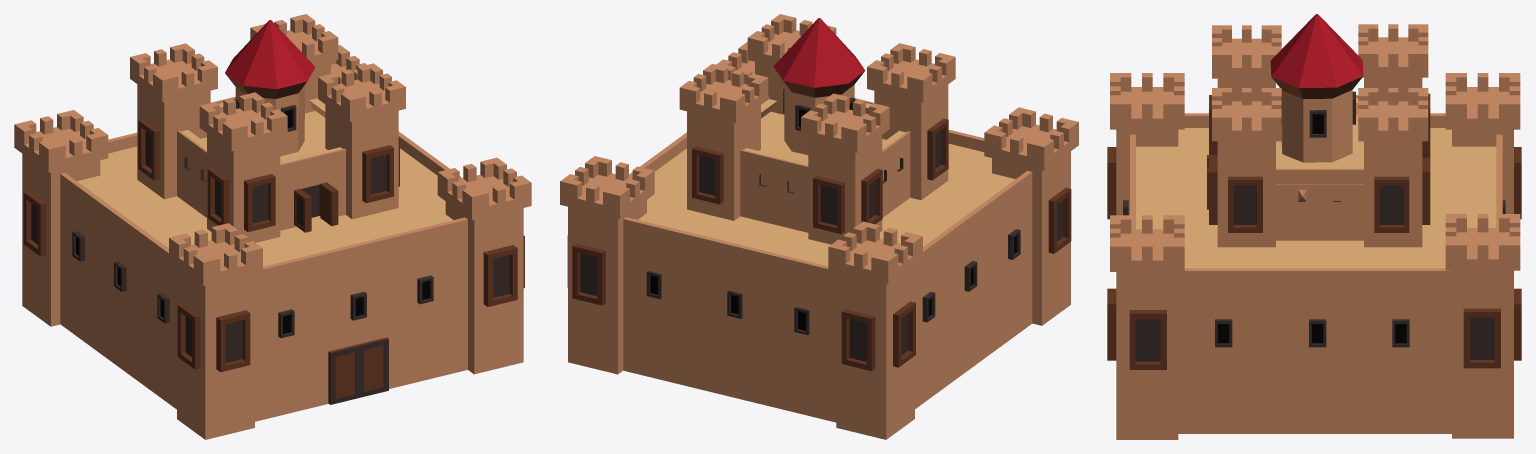
The model's file is level6.fbx.
3 views of the same model, side by side, from view 1: azimuth 30°, elevation 25°; view 2: azimuth 150°, elevation 25°; view 3: azimuth 270°, elevation 25° (orthographic). The views are drawn at different scales.
Visible parts, largest first — view 1: Cube.001; view 2: Cube.001; view 3: Cube.001.
Boxes of the visible parts, <box> form: Cube.001: <box>14,14,531,439</box>; Cube.001: <box>560,14,1078,439</box>; Cube.001: <box>1107,14,1521,439</box>.
Bounding box in the file's own units: 1335 × 1208 × 1335.
